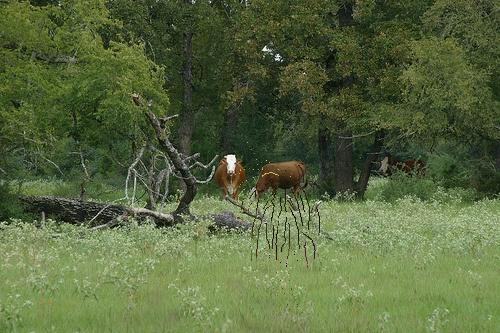tampered: (234, 143, 320, 311)
